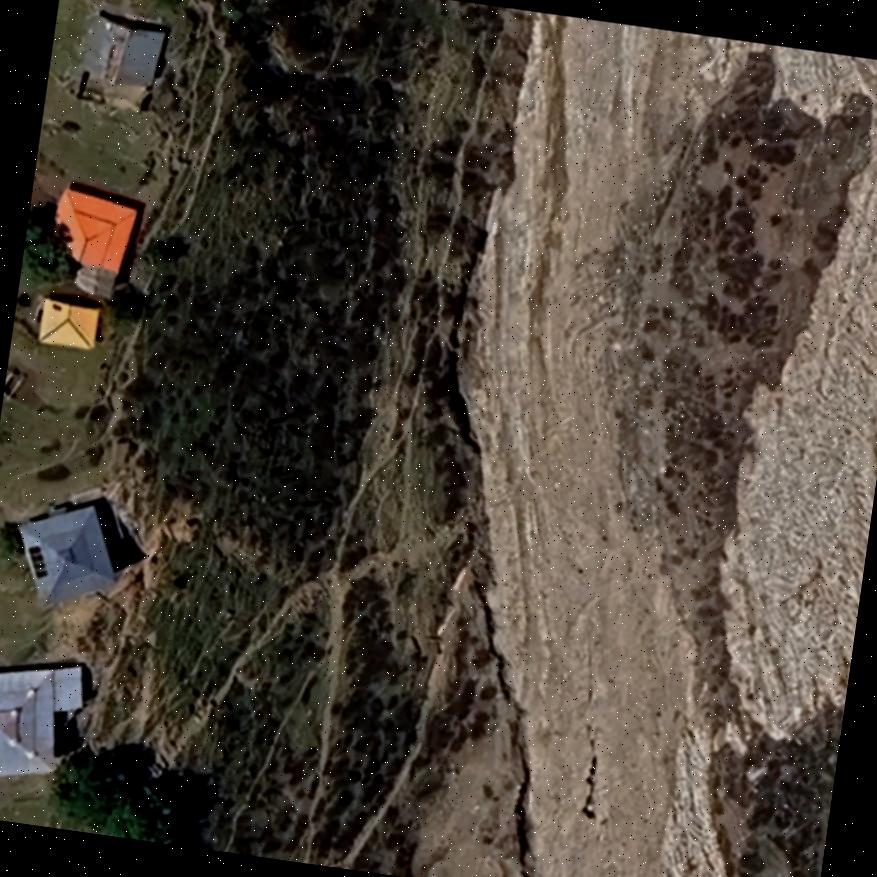Solarpanel: (24, 541, 50, 581)
